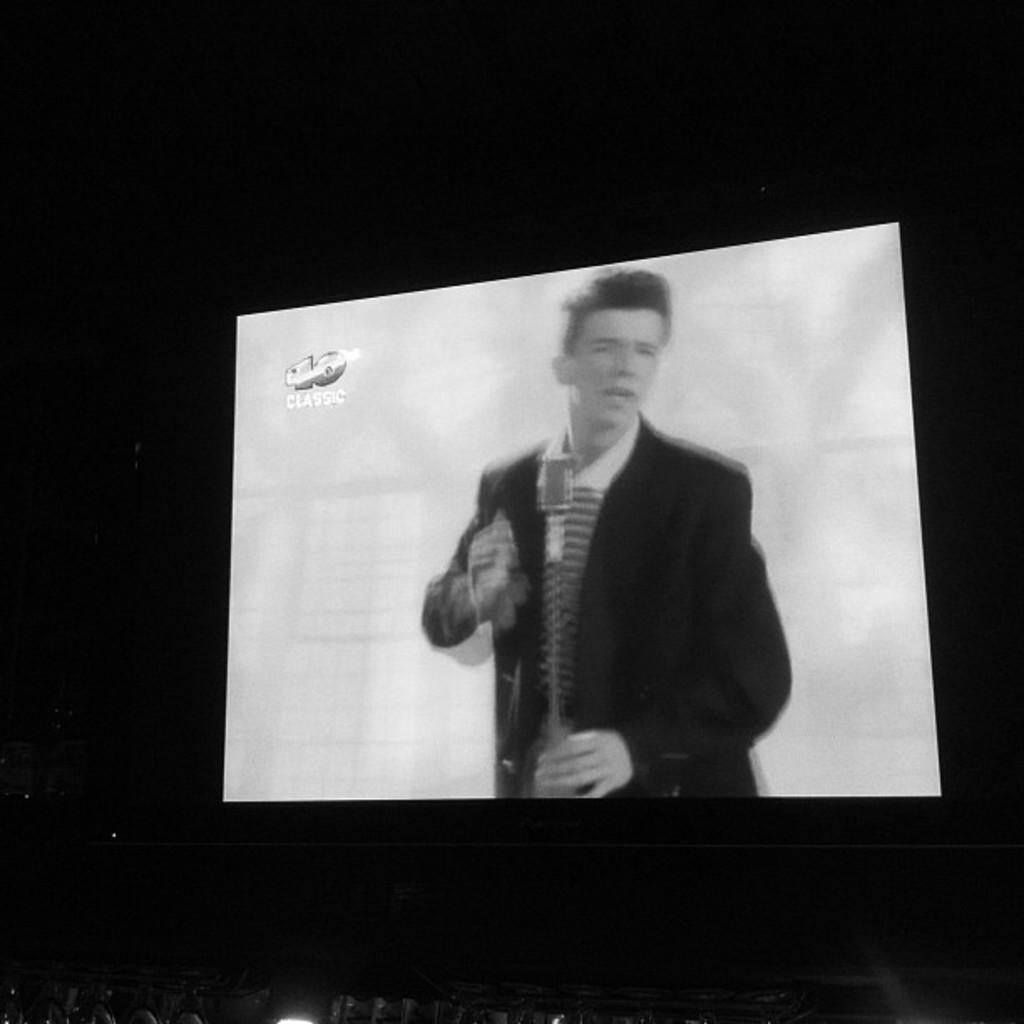Sem Máscara: (566, 292, 658, 428)
